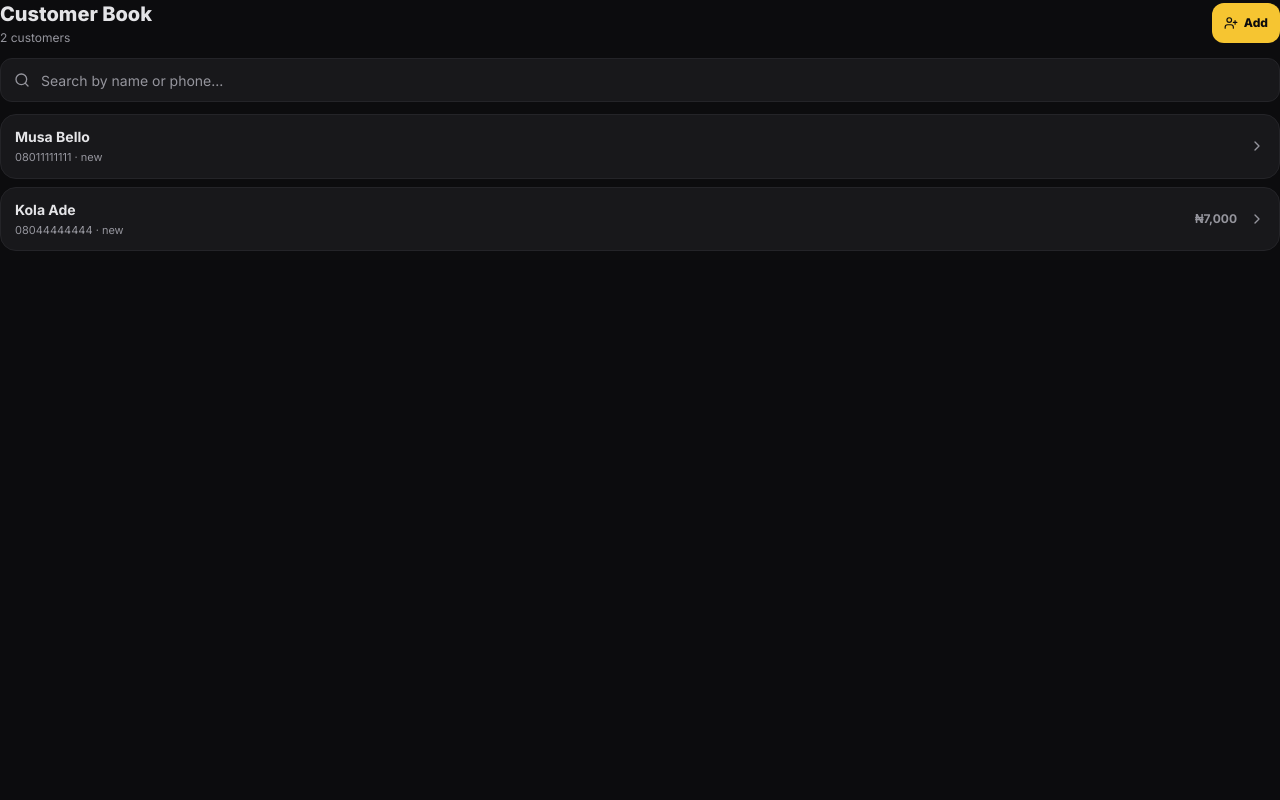
Scenario: a customer's page › opens on a tap, with their bundles
Click the button "Musa Bello 08011111111 · new" at (52, 136), box [1,115,1279,178]
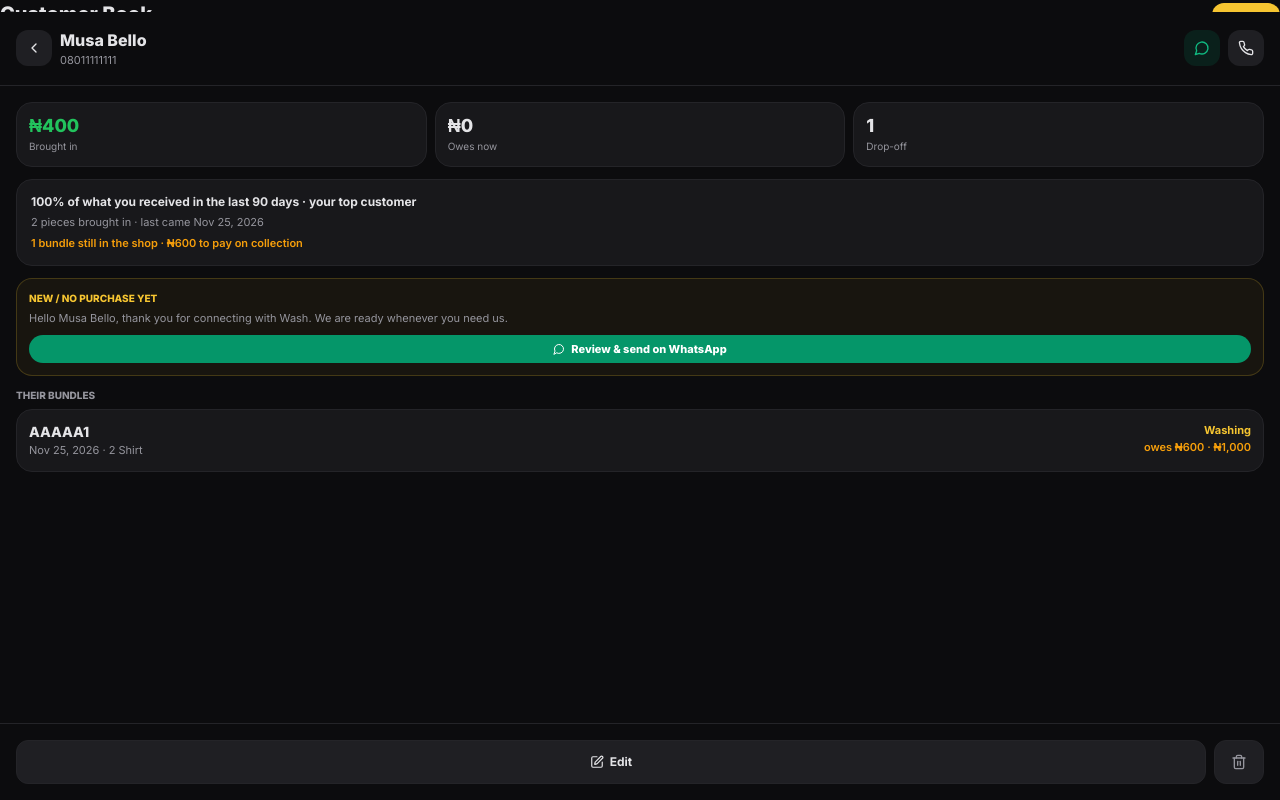
Now the text "Their bundles" is shown, box [16,389,95,401]
Now the text "AAAAA1" is shown, box [29,423,89,440]
Now the text "owes ₦600 · ₦1,000" is shown, box [1144,438,1251,455]
